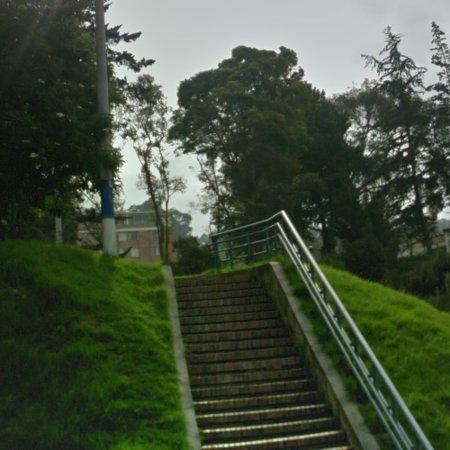stairs: (176, 275, 353, 450)
